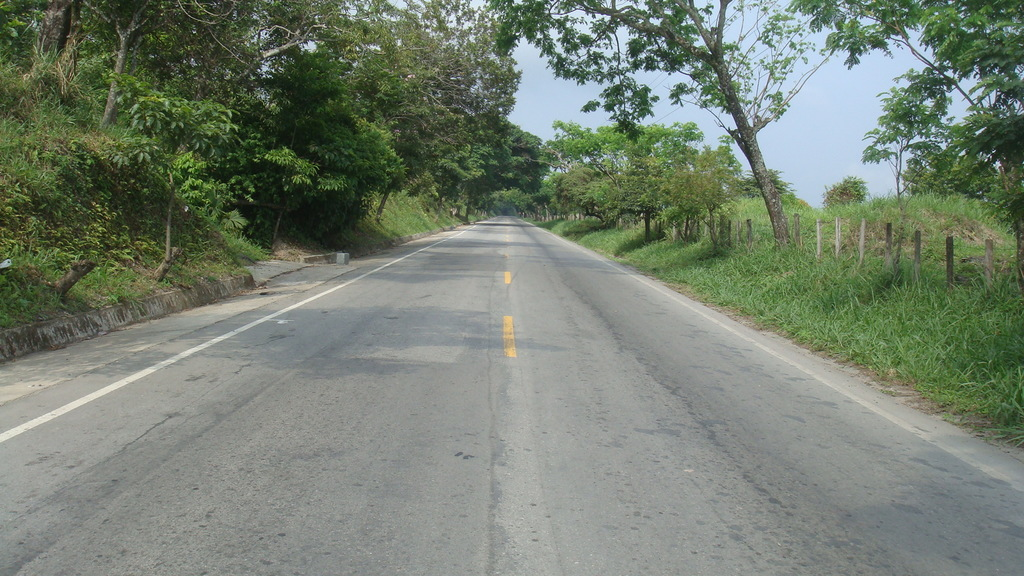Tree: (0, 0, 1023, 328)
